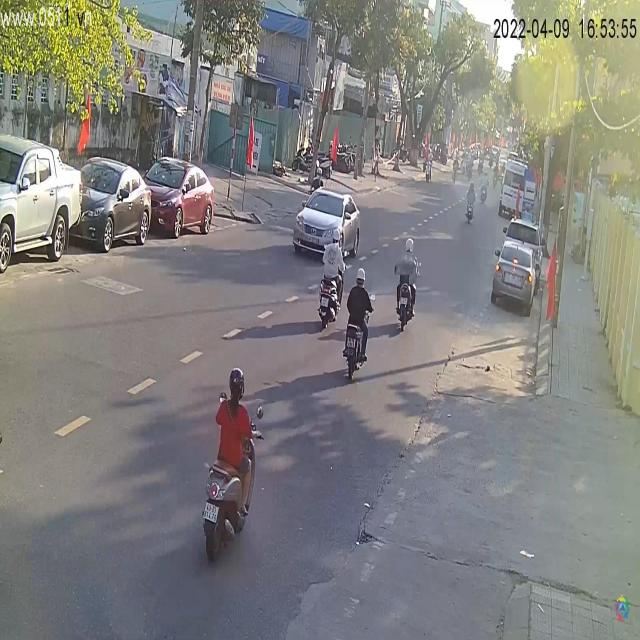car: (1, 135, 84, 276), (74, 158, 155, 253), (140, 156, 217, 240), (292, 189, 360, 261), (493, 231, 548, 317), (498, 158, 539, 221)
motorcycle: (199, 393, 266, 559), (342, 292, 372, 381), (316, 257, 348, 331), (393, 270, 418, 331)
